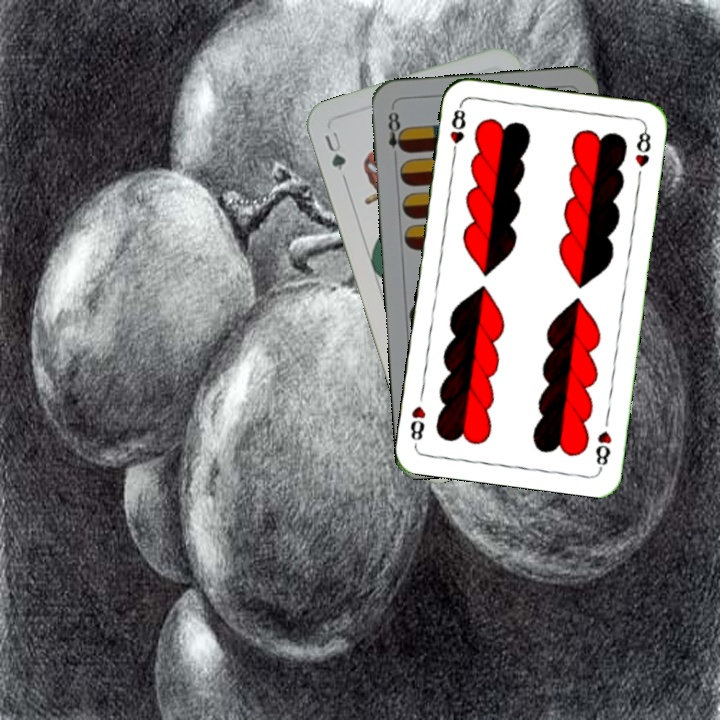E8: (384, 107, 408, 163)
GU: (320, 127, 349, 183)
H8: (446, 101, 468, 160), (591, 426, 614, 472)
